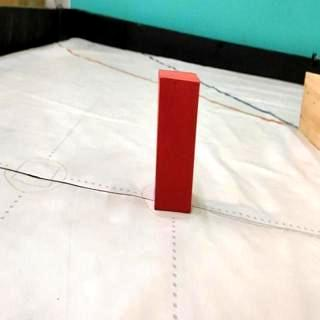redbox: (154, 68, 202, 214)
